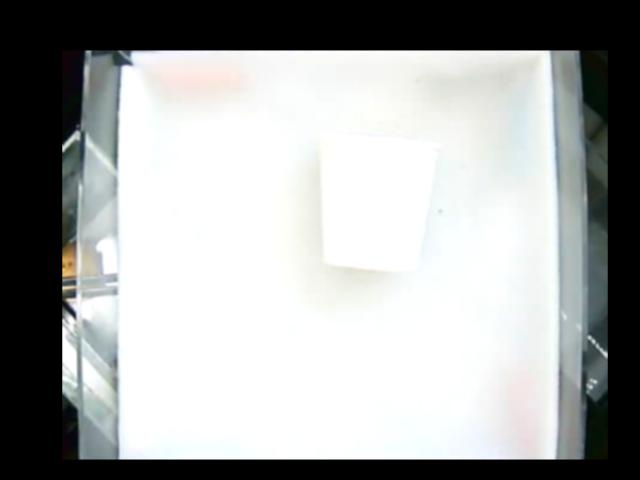Cup: (317, 133, 441, 272)
